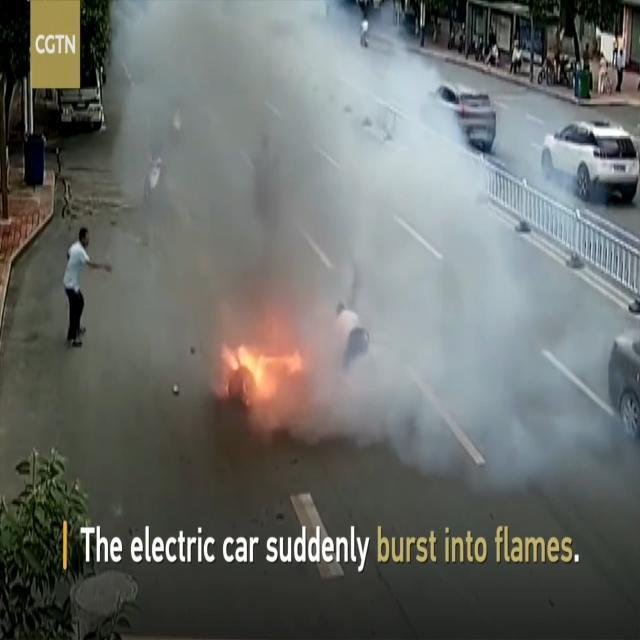fire: (212, 322, 312, 418)
